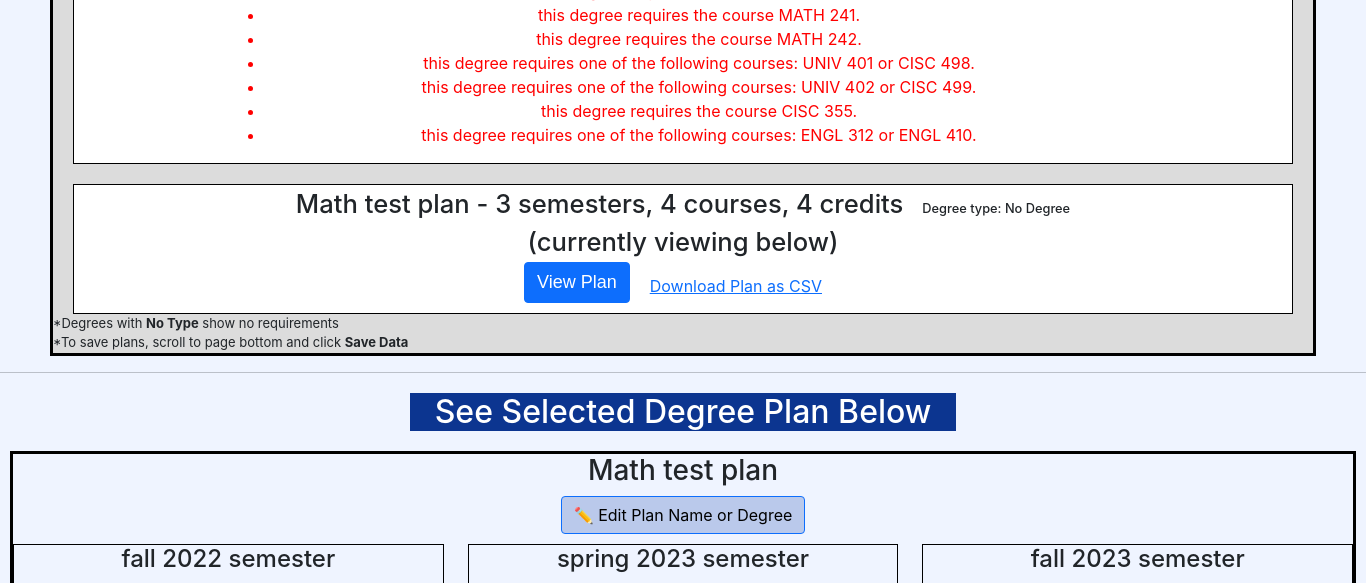
Test case: View Semester Tests › Test Remove Semester buttons
The width and height of the screenshot is (1366, 583).
(page scrolled)
What coordinates should you click on to do the following:
click the button with test id "107-degree-plan"
I would click on:
 (577, 282)
Its box is [524, 262, 630, 303].
(page scrolled)
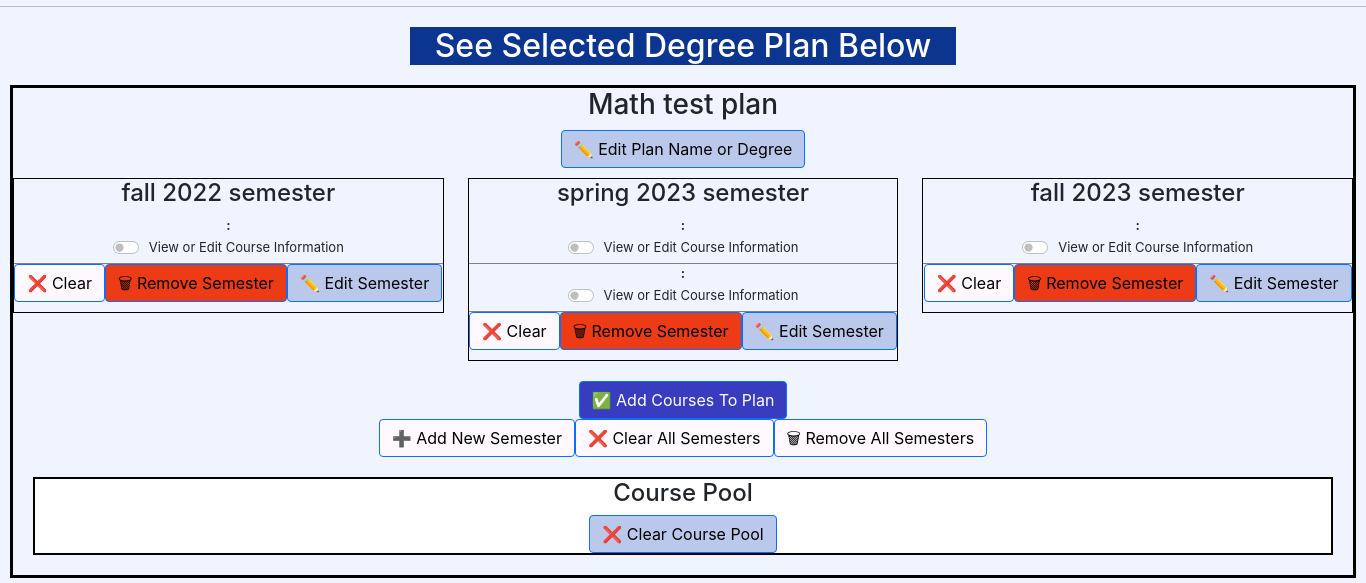
Check: the number of headings "fall 2022 semester" is 1, box [122, 178, 335, 207]
Check: the number of headings "spring 2023 semester" is 1, box [557, 178, 809, 207]
What coordinates should you click on to do the following:
click the button with test id "109-edit-remove-semester"
I would click on:
 (196, 282)
Its box is [105, 264, 287, 302].
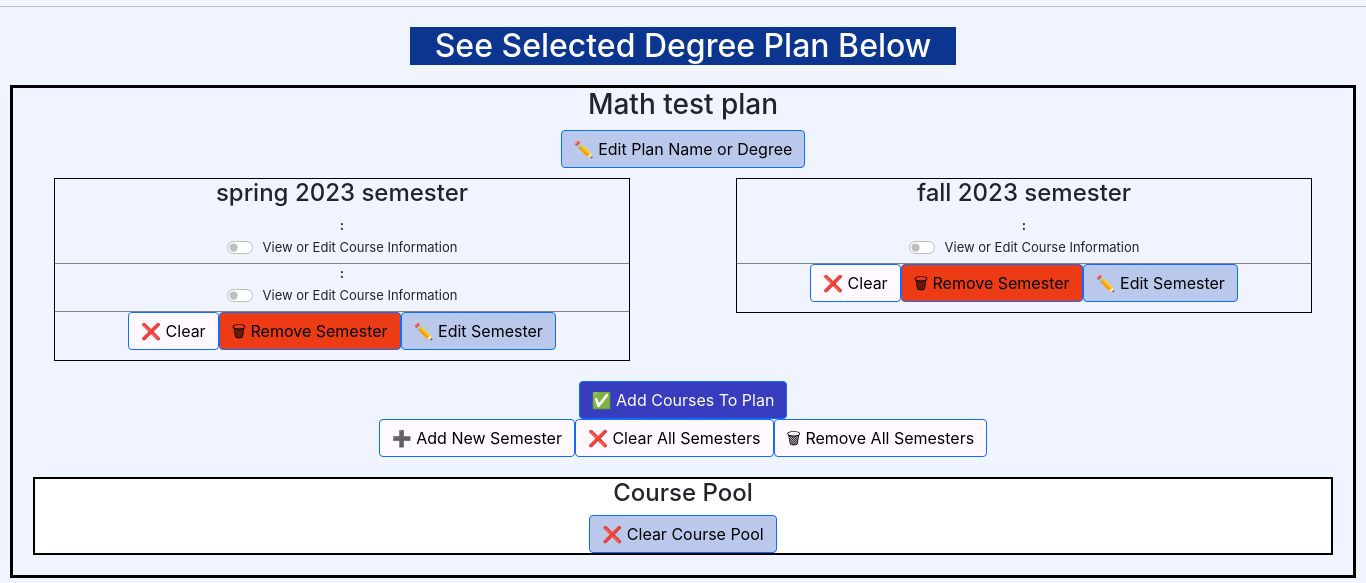
What coordinates should you click on to do the following:
click the button with test id "111-edit-remove-semester"
I would click on:
 (310, 330)
Its box is [219, 312, 400, 350].
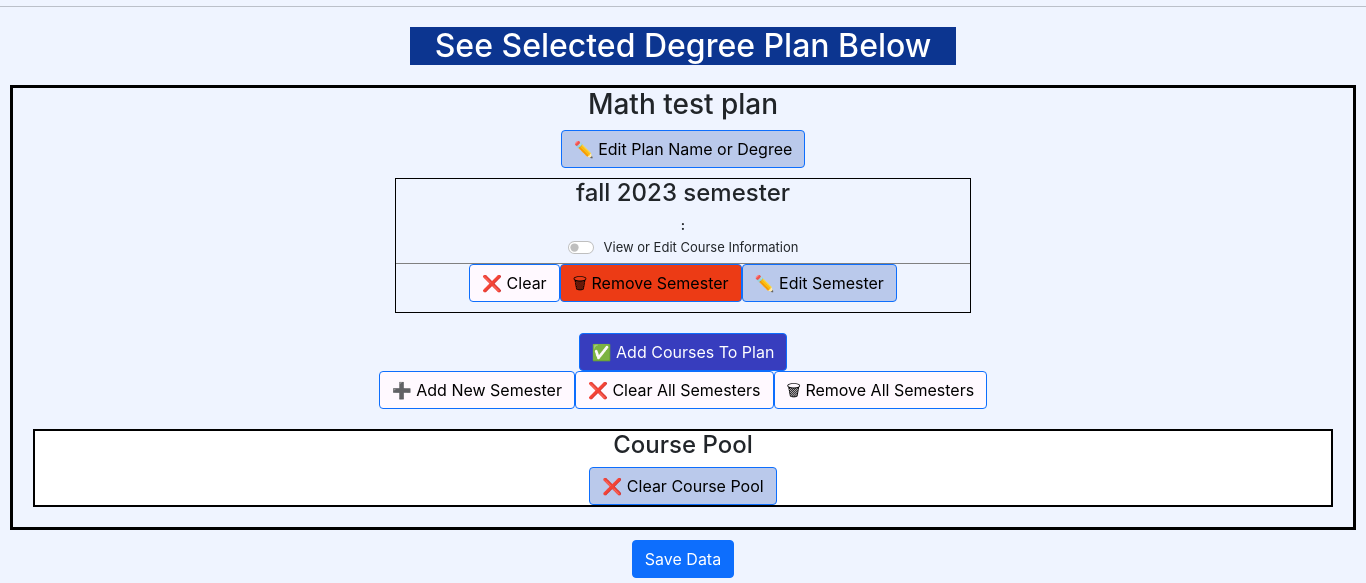
What coordinates should you click on to do the following:
click the button with test id "114-edit-remove-semester"
I would click on:
 (651, 282)
Its box is [560, 264, 742, 302].
(page scrolled)
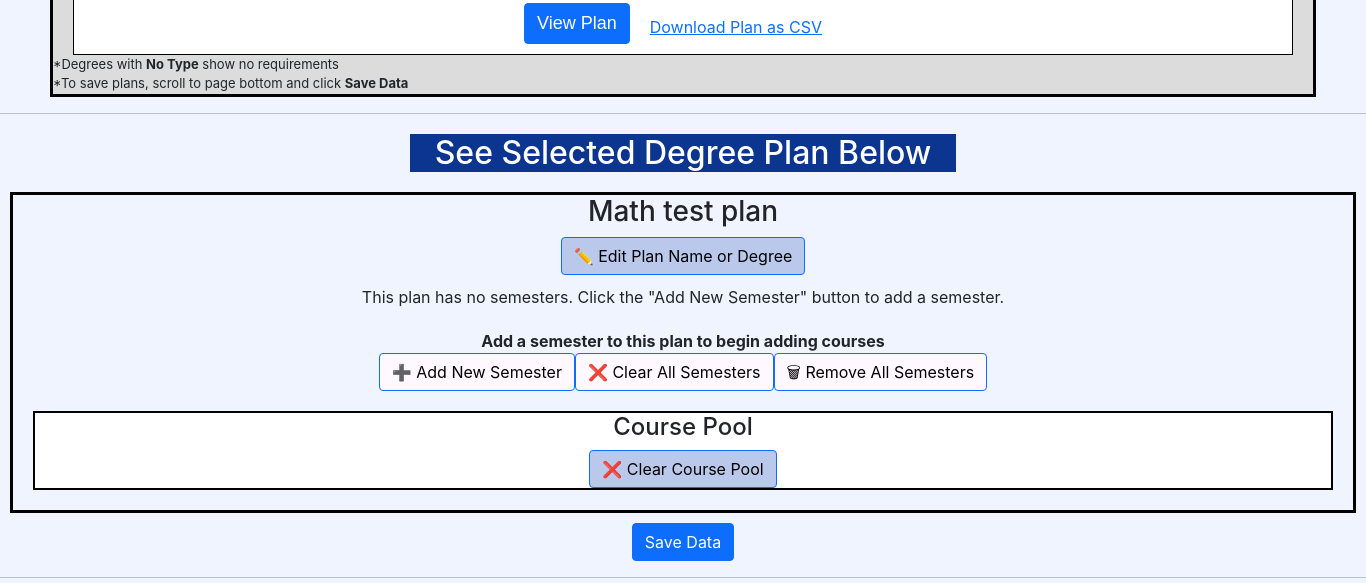
Check: no headings "fall 2023 semester" are shown
Check: the text "This plan has no semesters." is shown once, box [362, 287, 1004, 307]
